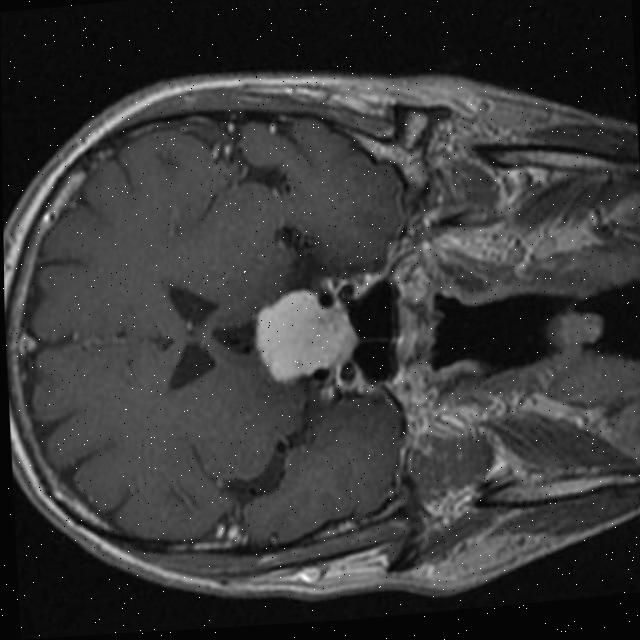Pituitary: (251, 282, 356, 387)
